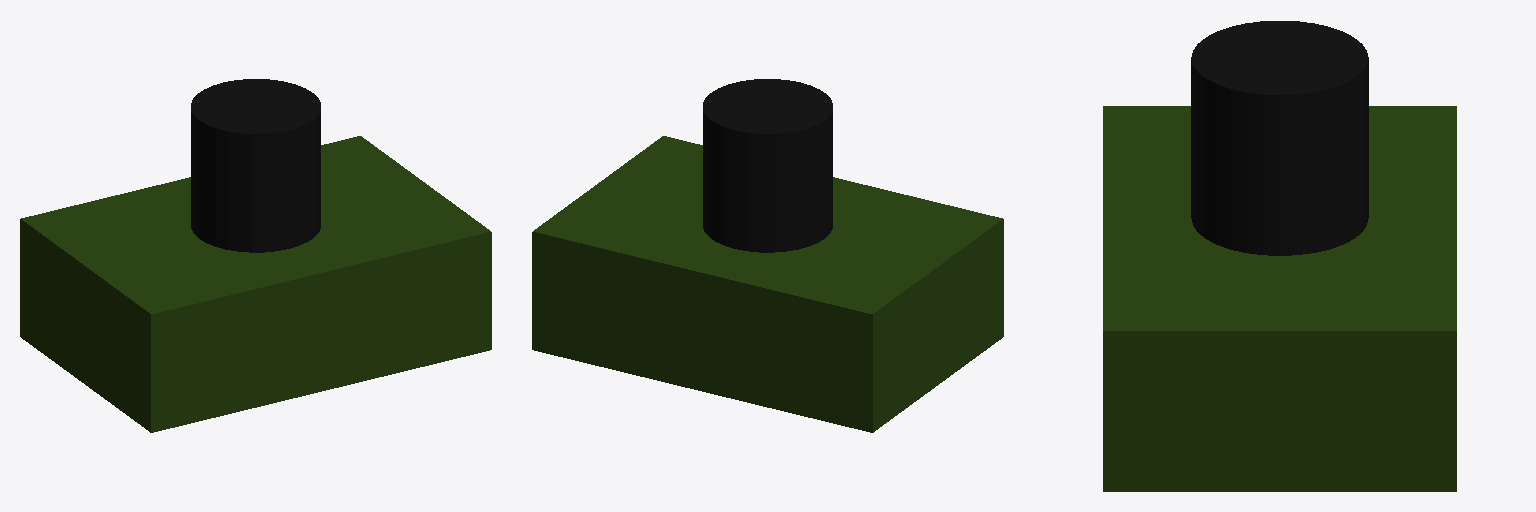
robot.urdf — my_robot:
<?xml version="1.0" ?>
<robot name="my_robot">
    <material name="green">
        <color rgba="0 0.5 0 1"/>
    </material>
    <material name="blue">
        <color rgba="0 0 0.5 1"/>
    </material>
    <material name="military_green">
        <color rgba="0.2 0.3 0.1 1.0"/>
    </material>
    <material name="dark_metal">
        <color rgba="0.1 0.1 0.1 1.0"/>
    </material>

    <link name="base_link">
        <visual>
            <geometry>
                <box size="0.6 0.4 0.2"/>
            </geometry>
            <origin xyz="0 0 0.1" rpy="0 0 0"/>
            <material name="military_green"/>
        </visual>
    </link>
    <link name="second_link">
        <visual>
            <geometry>
                <cylinder radius="0.1" length="0.2"/>
            </geometry>
            <origin xyz="0 0 0.1" rpy="0 0 0"/>
            <material name="dark_metal"/>
        </visual>
    </link>
    <joint name="base_second_link" type="fixed">
        <parent link="base_link" />
        <child link="second_link" />
        <origin xyz="0 0 0.2" rpy="0 0 0"/>
    </joint>
</robot>

--- What the picture shows (computed from the rendered views, not written in the file) ---
The picture shows the robot from 3 angles, left to right: view 1: azimuth 30°, elevation 25°; view 2: azimuth 150°, elevation 25°; view 3: azimuth 270°, elevation 25°; orthographic projection.
Robot: my_robot — 2 links, 1 joints (1 fixed); root link base_link; default pose: every joint at zero.
Links seen in each view (by area): view 1: base_link, second_link; view 2: base_link, second_link; view 3: base_link, second_link.
Boxes of the visible links, x1,y1,x2,y2 form: base_link: [20, 136, 491, 432]; second_link: [191, 79, 320, 252]; base_link: [532, 136, 1003, 432]; second_link: [703, 79, 832, 252]; base_link: [1103, 106, 1456, 491]; second_link: [1191, 21, 1368, 255].
Bounding box of the posed robot: 0.6 × 0.4 × 0.4 m (x, y, z).
Geometry: primitives only (box / cylinder / sphere), no mesh files.
